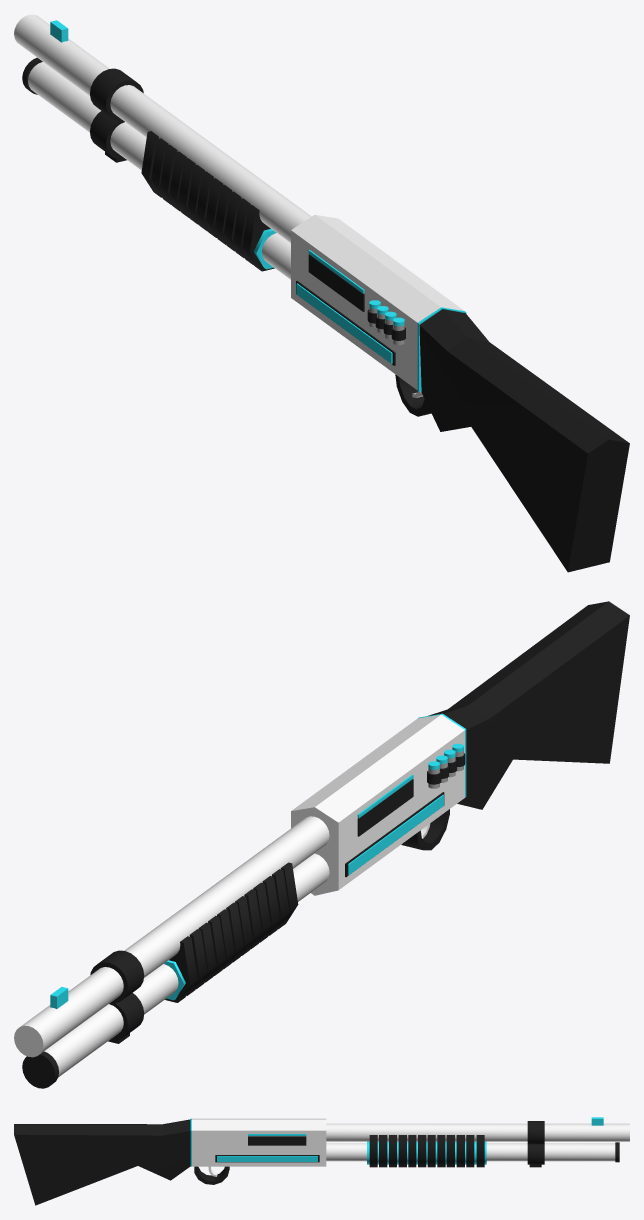
The model's file is ShotgunModel.obj.
3 renders of one model, top to bottom at view 1: azimuth 30°, elevation 25°; view 2: azimuth 150°, elevation 25°; view 3: azimuth 270°, elevation 25°, orthographic. The views are drawn at different scales.
Parts seen in each view (by area): view 1: ShotgunModel; view 2: ShotgunModel; view 3: ShotgunModel.
Part boxes in pixels (bbox=[...]): ShotgunModel: bbox=[14, 14, 629, 572]; ShotgunModel: bbox=[14, 601, 629, 1088]; ShotgunModel: bbox=[14, 1117, 629, 1205].
Bounding box in the file's own units: 0.0932 × 0.2218 × 1.51.
